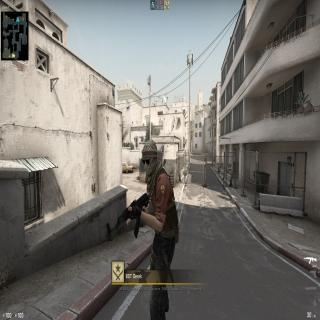T-Head: (141, 138, 158, 178)
